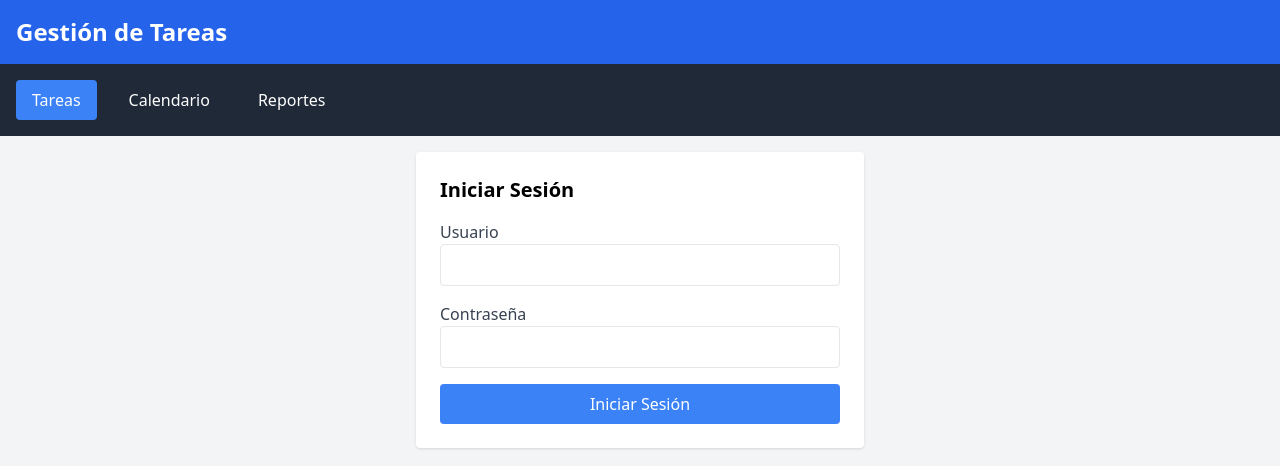
Scenario: App Component › shows Users view for admin
This screenshot has width=1280, height=466.
Type "admin" into the field labelled "Usuario". click: (640, 265)
box: [440,244,840,286]
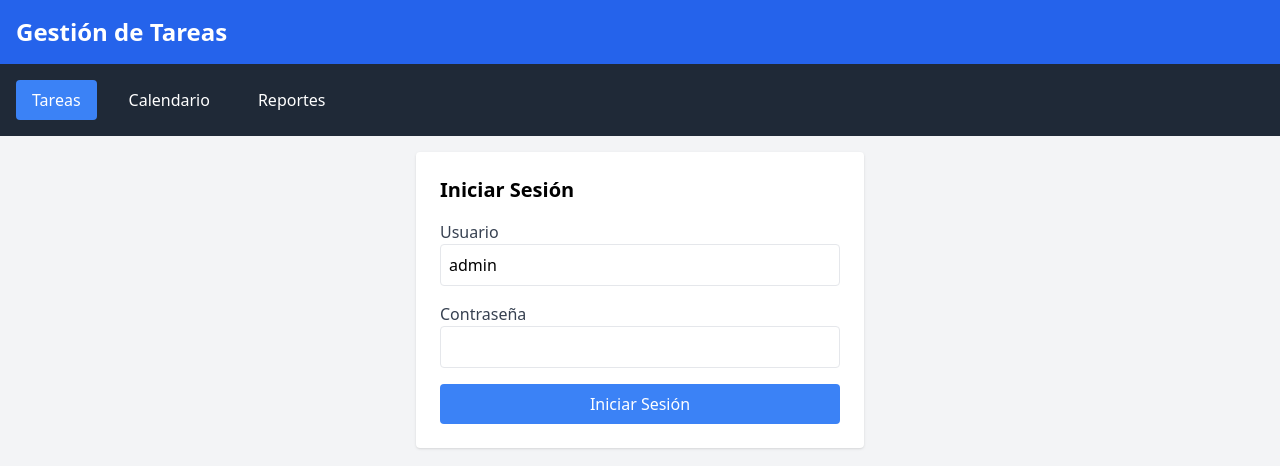
Type "1234" into the password field labelled "Contraseña". click: (640, 347)
box: [440,326,840,368]
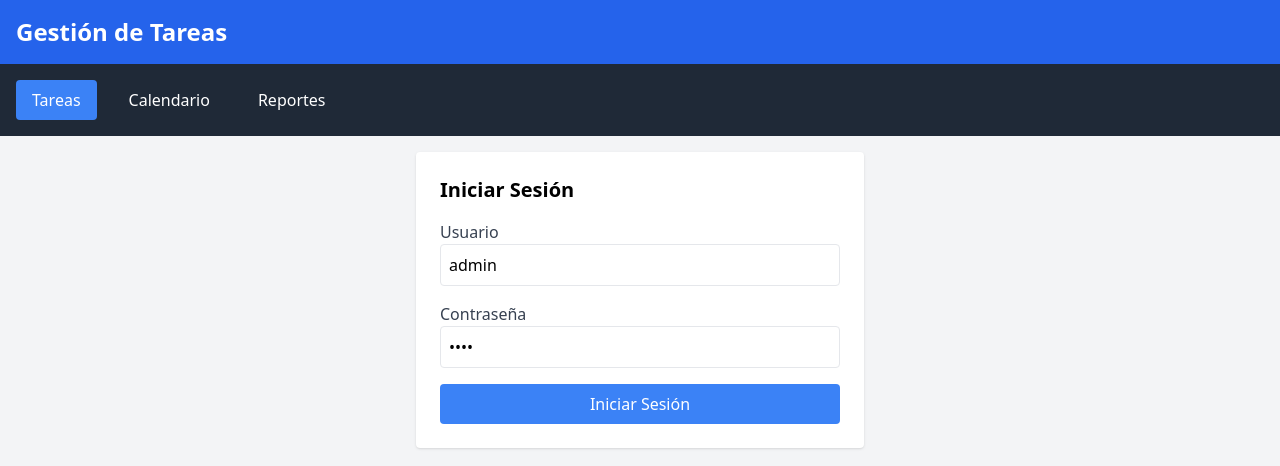
Click the button "Iniciar Sesión". click: click(640, 404)
box: [440,384,840,424]
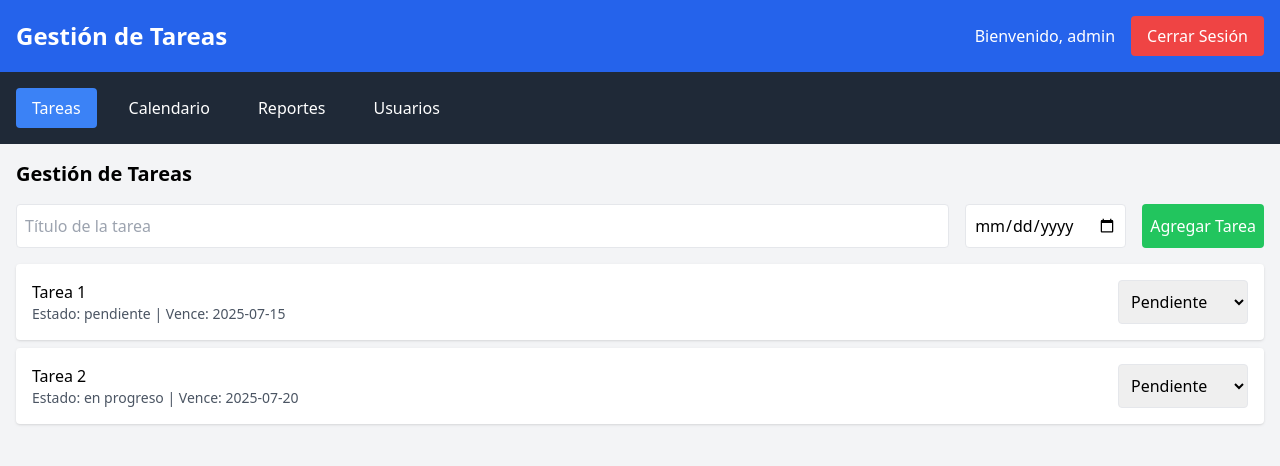
Expected: the text "Bienvenido, admin" is shown, [975,24,1115,48]
Click the button "Usuarios". click: click(407, 108)
box: [358,88,456,128]
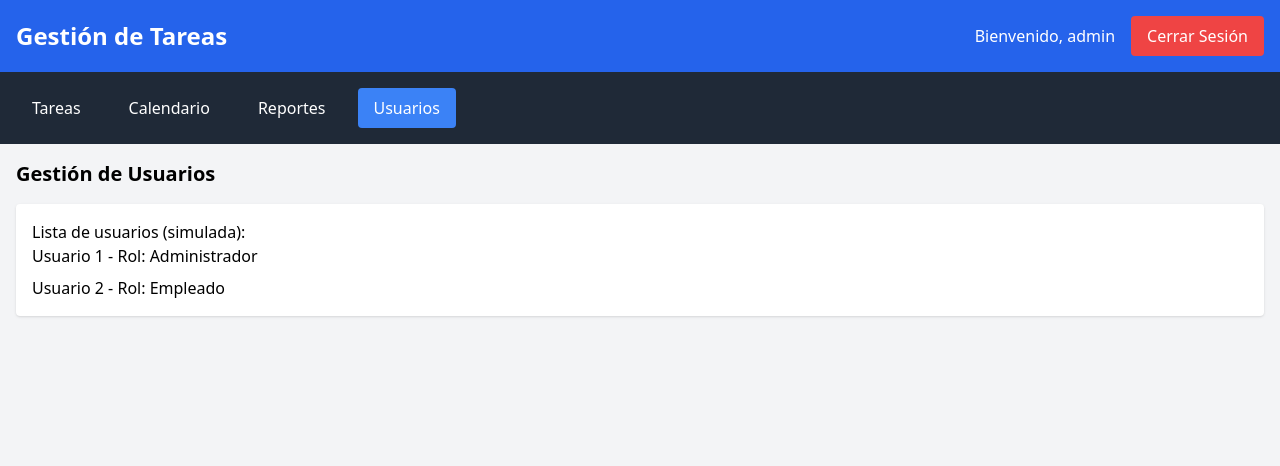
Expected: the heading "Gestión de Usuarios" is shown, [16,160,215,187]
Expected: the text "Lista de usuarios (simulada):" is shown, [32,221,245,243]
